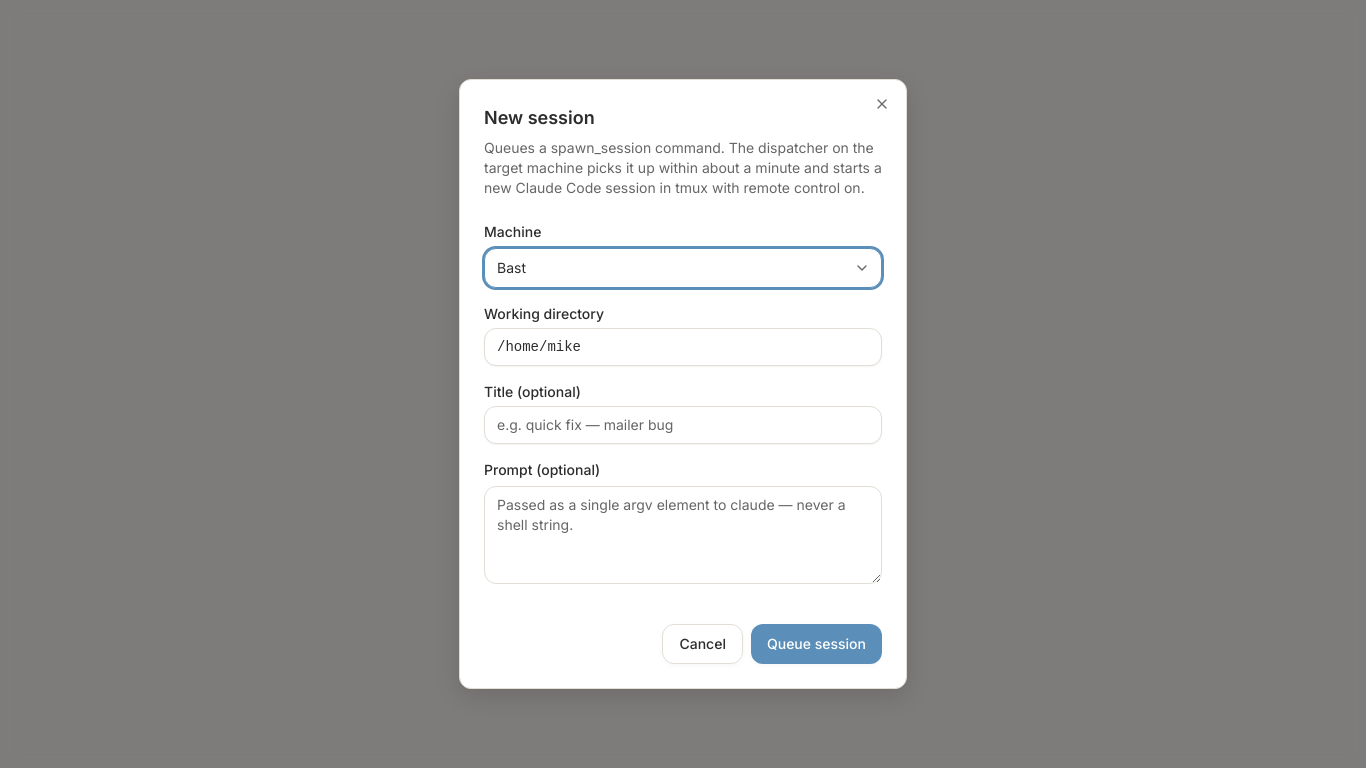
Test case: NewSessionModal › blocks submit and shows an inline error when cwd is cleared (required field)
Clear the field labelled "Working directory" at point(683, 347), box [484,328,882,366]
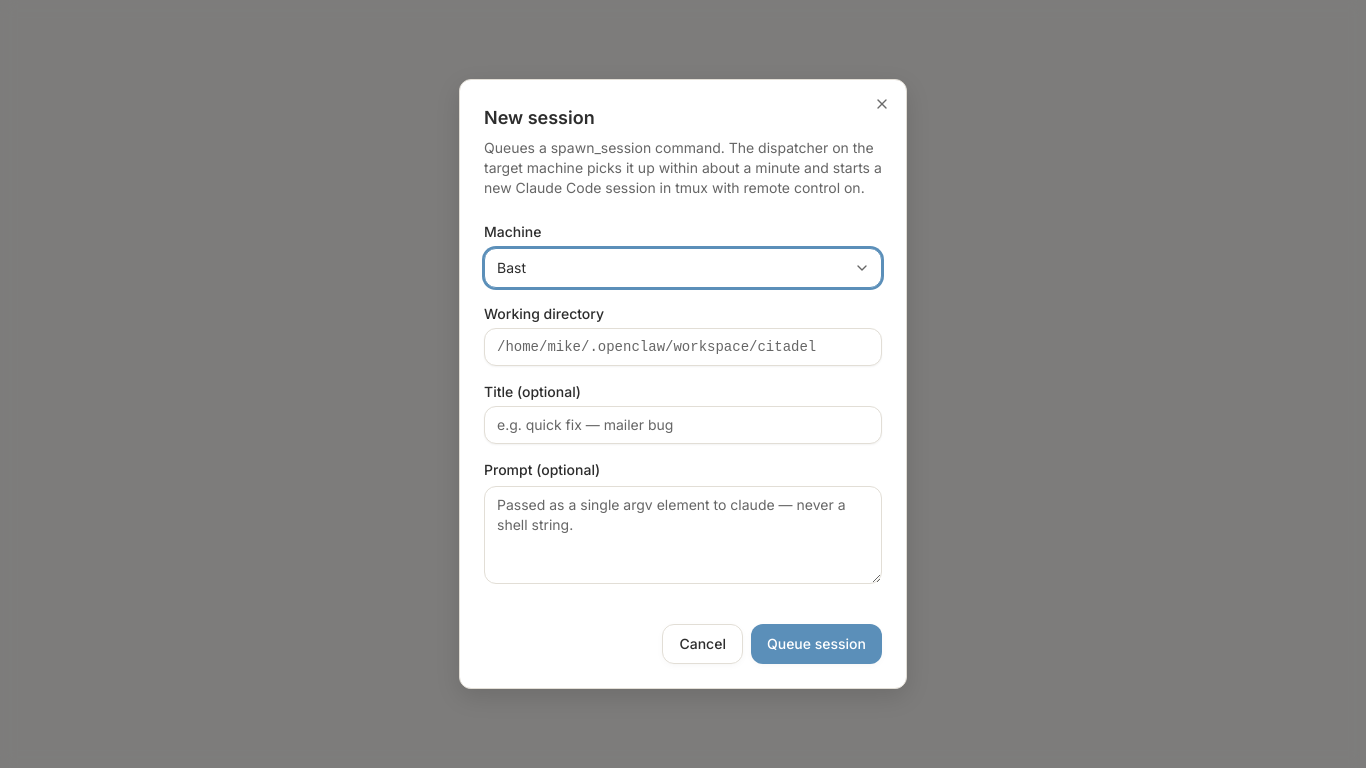
Click the button "Queue session" at point(816, 644), box [751,624,882,664]
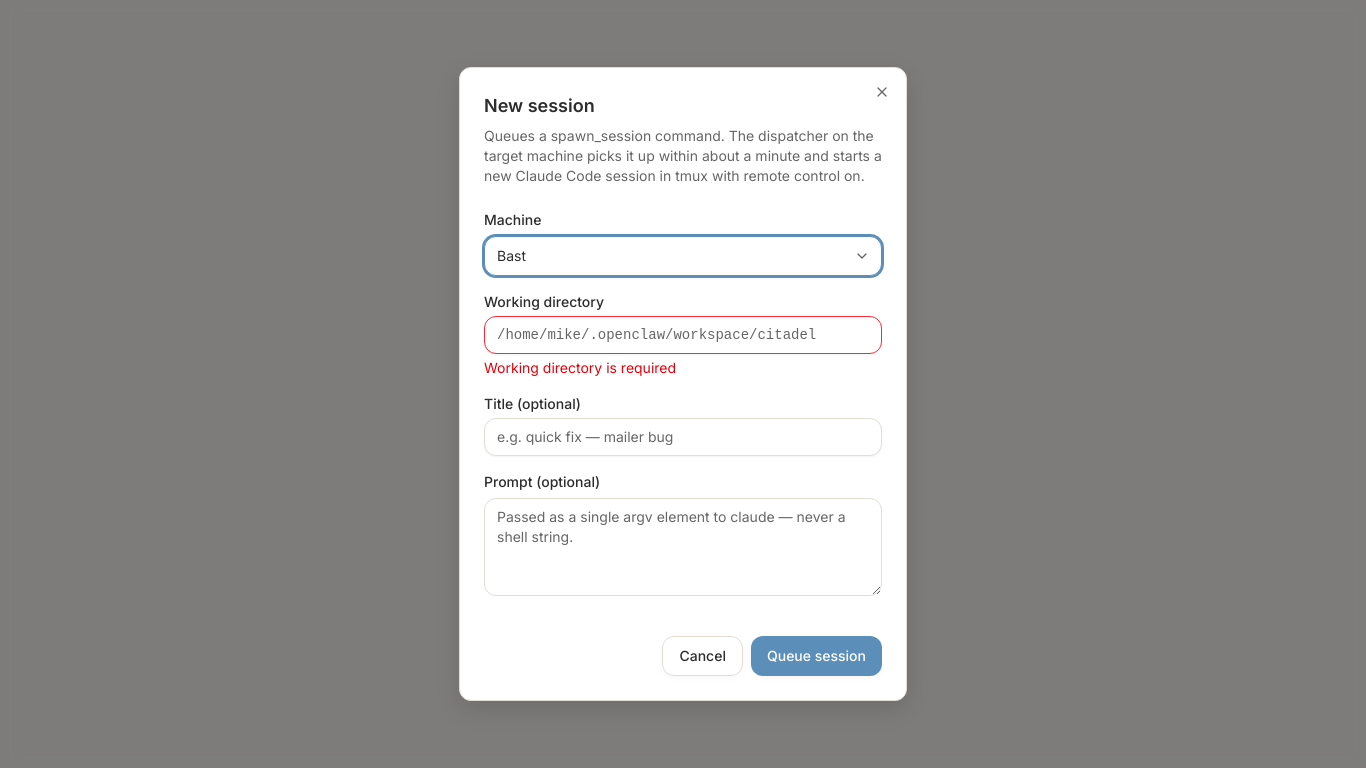
Expected: the text "Working directory is required" is shown, [484,359,676,376]
